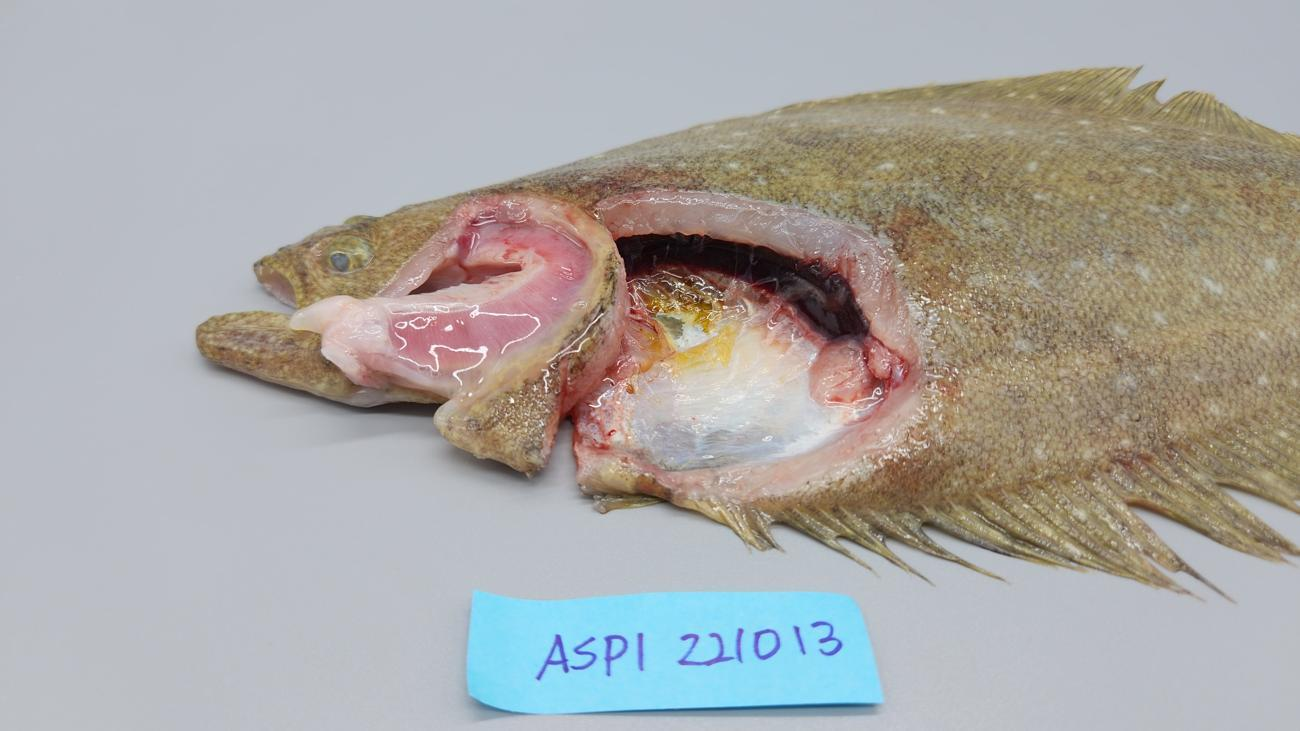SPASQ: (632, 313, 812, 401)
SPKIE: (613, 233, 871, 339)
